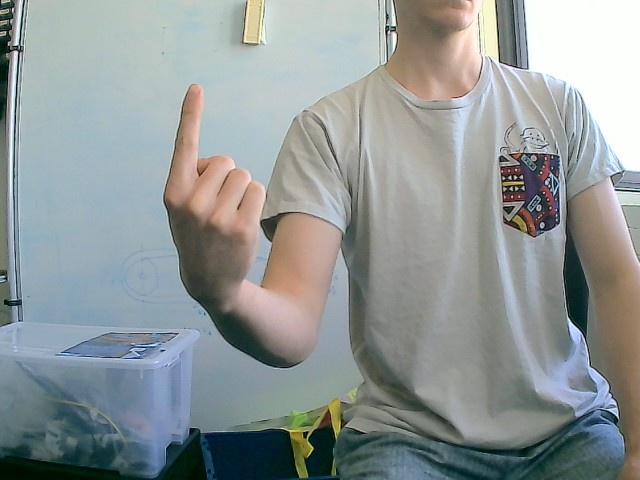up: (162, 82, 267, 311)
